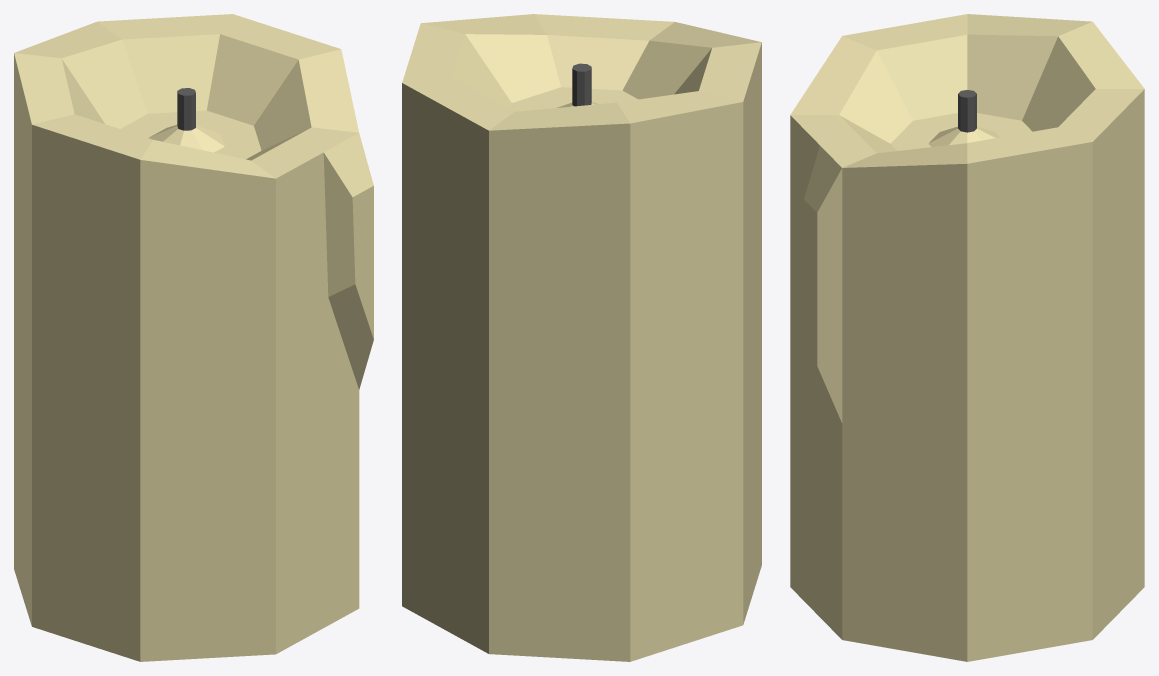
File: Candle.fbx
The picture shows the model from 3 angles, left to right: view 1: azimuth 30°, elevation 25°; view 2: azimuth 150°, elevation 25°; view 3: azimuth 270°, elevation 25°; orthographic projection. The views are drawn at different scales.
Visible parts, largest first — view 1: Candle; view 2: Candle; view 3: Candle.
Part boxes in pixels (x1,y1,x2,y2): Candle: (14,14,373,661); Candle: (402,14,761,661); Candle: (790,14,1144,661).
Size of the model in its own units: 25.46 by 40.61 by 25.46.
1 material, 1 textured.
